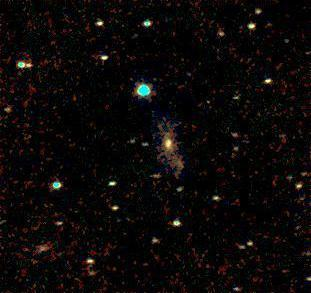star: (194, 88, 224, 118)
